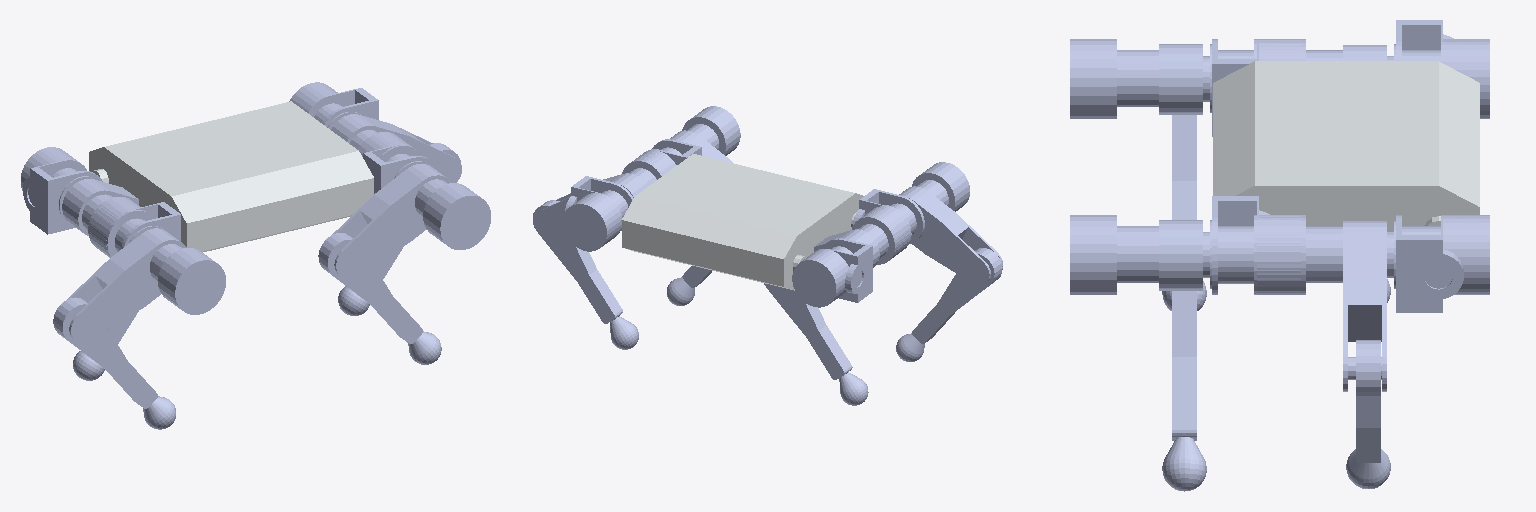
The robot description file, URDF, robot "simplified_model.SLDASM":
<?xml version="1.0" encoding="utf-8"?>
<!-- This URDF was automatically created by SolidWorks to URDF Exporter! Originally created by Stephen Brawner (brawner@gmail.com) 
     Commit Version: 1.6.0-4-g7f85cfe  Build Version: 1.6.7995.38578
     For more information, please see http://wiki.ros.org/sw_urdf_exporter -->
<robot
  name="simplified_model.SLDASM">
  <link
    name="base_link">
    <inertial>
      <origin
        xyz="5.47434840386694E-18 2.55179282232552E-16 3.93671223977149E-18"
        rpy="0 0 0" />
      <mass
        value="12.3505861948935" />
      <inertia
        ixx="0.0552925091791178"
        ixy="3.99354699393272E-17"
        ixz="1.46933120049119E-18"
        iyy="0.0745145490897858"
        iyz="-1.5469933898811E-16"
        izz="0.116976664044279" />
    </inertial>
    <visual>
      <origin
        xyz="0 0 0"
        rpy="0 0 0" />
      <geometry>
        <mesh
          filename="package://simplified_model.SLDASM/meshes/base_link.STL" />
      </geometry>
      <material
        name="">
        <color
          rgba="0.898039215686275 0.917647058823529 0.929411764705882 1" />
      </material>
    </visual>
    <collision>
      <origin
        xyz="0 0 0"
        rpy="0 0 0" />
      <geometry>
        <mesh
          filename="package://simplified_model.SLDASM/meshes/base_link.STL" />
      </geometry>
    </collision>
  </link>
  <link
    name="leg11">
    <inertial>
      <origin
        xyz="2.95448046390318E-16 -0.00470579917560623 -0.00370298925443703"
        rpy="0 0 0" />
      <mass
        value="0.301356841667992" />
      <inertia
        ixx="0.00031237713005535"
        ixy="-1.77171841844848E-21"
        ixz="4.36892705019405E-21"
        iyy="0.000278224679930442"
        iyz="2.3669794651681E-05"
        izz="0.00020168338836961" />
    </inertial>
    <visual>
      <origin
        xyz="0 0 0"
        rpy="0 0 0" />
      <geometry>
        <mesh
          filename="package://simplified_model.SLDASM/meshes/leg11.STL" />
      </geometry>
      <material
        name="">
        <color
          rgba="0.792156862745098 0.819607843137255 0.933333333333333 1" />
      </material>
    </visual>
    <collision>
      <origin
        xyz="0 0 0"
        rpy="0 0 0" />
      <geometry>
        <mesh
          filename="package://simplified_model.SLDASM/meshes/leg11.STL" />
      </geometry>
    </collision>
  </link>
  <joint
    name="joint11"
    type="revolute">
    <origin
      xyz="0.181 0.08 0"
      rpy="1.5707963267949 -1.5707963267949 0" />
    <parent
      link="base_link" />
    <child
      link="leg11" />
    <axis
      xyz="0 -1 0" />
    <limit
      lower="0"
      upper="0"
      effort="0"
      velocity="0" />
  </joint>
  <link
    name="leg12">
    <inertial>
      <origin
        xyz="0.0198293844099956 -3.88578058618805E-16 0.0951546393000447"
        rpy="0 0 0" />
      <mass
        value="0.474545008687657" />
      <inertia
        ixx="0.000744145654837156"
        ixy="-2.60208521396521E-18"
        ixz="0.00029316314313376"
        iyy="0.00125402292613774"
        iyz="3.76800735105758E-18"
        izz="0.000758753104643996" />
    </inertial>
    <visual>
      <origin
        xyz="0 0 0"
        rpy="0 0 0" />
      <geometry>
        <mesh
          filename="package://simplified_model.SLDASM/meshes/leg12.STL" />
      </geometry>
      <material
        name="">
        <color
          rgba="0.792156862745098 0.819607843137255 0.933333333333333 1" />
      </material>
    </visual>
    <collision>
      <origin
        xyz="0 0 0"
        rpy="0 0 0" />
      <geometry>
        <mesh
          filename="package://simplified_model.SLDASM/meshes/leg12.STL" />
      </geometry>
    </collision>
  </link>
  <joint
    name="joint12"
    type="revolute">
    <origin
      xyz="0 0 0"
      rpy="0 0 -2.03979862619672" />
    <parent
      link="leg11" />
    <child
      link="leg12" />
    <axis
      xyz="0 0 1" />
    <limit
      lower="0"
      upper="0"
      effort="0"
      velocity="0" />
  </joint>
  <link
    name="leg13">
    <inertial>
      <origin
        xyz="0.0855858745347819 -3.47361722718986E-12 0.00239181473428293"
        rpy="0 0 0" />
      <mass
        value="0.159809533603717" />
      <inertia
        ixx="2.46241000038277E-05"
        ixy="2.07300751339638E-14"
        ixz="2.33176643663368E-15"
        iyy="0.000776569136241325"
        iyz="-1.97402718491934E-15"
        izz="0.000786083790666802" />
    </inertial>
    <visual>
      <origin
        xyz="0 0 0"
        rpy="0 0 0" />
      <geometry>
        <mesh
          filename="package://simplified_model.SLDASM/meshes/leg13.STL" />
      </geometry>
      <material
        name="">
        <color
          rgba="0.792156862745098 0.819607843137255 0.933333333333333 1" />
      </material>
    </visual>
    <collision>
      <origin
        xyz="0 0 0"
        rpy="0 0 0" />
      <geometry>
        <mesh
          filename="package://simplified_model.SLDASM/meshes/leg13.STL" />
      </geometry>
    </collision>
  </link>
  <joint
    name="joint13"
    type="revolute">
    <origin
      xyz="0.126 0 0.0586081852654754"
      rpy="0 0 -1.76132598286924" />
    <parent
      link="leg12" />
    <child
      link="leg13" />
    <axis
      xyz="0 0 1" />
    <limit
      lower="0"
      upper="0"
      effort="0"
      velocity="0" />
  </joint>
  <link
    name="leg21">
    <inertial>
      <origin
        xyz="-2.8862325545824E-16 0.00470579917560623 -0.00370298925443702"
        rpy="0 0 0" />
      <mass
        value="0.301356841667992" />
      <inertia
        ixx="0.00031237713005535"
        ixy="3.67477668401388E-21"
        ixz="4.30189265200411E-22"
        iyy="0.000278224679930441"
        iyz="-2.3669794651681E-05"
        izz="0.00020168338836961" />
    </inertial>
    <visual>
      <origin
        xyz="0 0 0"
        rpy="0 0 0" />
      <geometry>
        <mesh
          filename="package://simplified_model.SLDASM/meshes/leg21.STL" />
      </geometry>
      <material
        name="">
        <color
          rgba="0.792156862745098 0.819607843137255 0.933333333333333 1" />
      </material>
    </visual>
    <collision>
      <origin
        xyz="0 0 0"
        rpy="0 0 0" />
      <geometry>
        <mesh
          filename="package://simplified_model.SLDASM/meshes/leg21.STL" />
      </geometry>
    </collision>
  </link>
  <joint
    name="joint21"
    type="revolute">
    <origin
      xyz="0.181 -0.08 0"
      rpy="1.5707963267949 -1.5707963267949 0" />
    <parent
      link="base_link" />
    <child
      link="leg21" />
    <axis
      xyz="0 -1 0" />
    <limit
      lower="0"
      upper="0"
      effort="0"
      velocity="0" />
  </joint>
  <link
    name="leg22">
    <inertial>
      <origin
        xyz="0.0198293844099959 -4.02455846426619E-16 0.0951546393000447"
        rpy="0 0 0" />
      <mass
        value="0.474545008687657" />
      <inertia
        ixx="0.000744145654837156"
        ixy="-2.65629532258949E-18"
        ixz="0.00029316314313376"
        iyy="0.00125402292613774"
        iyz="3.75445482390152E-18"
        izz="0.000758753104643997" />
    </inertial>
    <visual>
      <origin
        xyz="0 0 0"
        rpy="0 0 0" />
      <geometry>
        <mesh
          filename="package://simplified_model.SLDASM/meshes/leg22.STL" />
      </geometry>
      <material
        name="">
        <color
          rgba="0.792156862745098 0.819607843137255 0.933333333333333 1" />
      </material>
    </visual>
    <collision>
      <origin
        xyz="0 0 0"
        rpy="0 0 0" />
      <geometry>
        <mesh
          filename="package://simplified_model.SLDASM/meshes/leg22.STL" />
      </geometry>
    </collision>
  </link>
  <joint
    name="joint22"
    type="revolute">
    <origin
      xyz="0 0 0"
      rpy="0 0 2.03979862619672" />
    <parent
      link="leg21" />
    <child
      link="leg22" />
    <axis
      xyz="0 0 1" />
    <limit
      lower="0"
      upper="0"
      effort="0"
      velocity="0" />
  </joint>
  <link
    name="leg23">
    <inertial>
      <origin
        xyz="0.0855858745347818 3.47364498276548E-12 -0.00239154065477623"
        rpy="0 0 0" />
      <mass
        value="0.159809533603717" />
      <inertia
        ixx="2.46241000038276E-05"
        ixy="-2.07298049304536E-14"
        ixz="-2.33192604336374E-15"
        iyy="0.000776569136241325"
        iyz="-1.97403006343245E-15"
        izz="0.000786083790666803" />
    </inertial>
    <visual>
      <origin
        xyz="0 0 0"
        rpy="0 0 0" />
      <geometry>
        <mesh
          filename="package://simplified_model.SLDASM/meshes/leg23.STL" />
      </geometry>
      <material
        name="">
        <color
          rgba="0.792156862745098 0.819607843137255 0.933333333333333 1" />
      </material>
    </visual>
    <collision>
      <origin
        xyz="0 0 0"
        rpy="0 0 0" />
      <geometry>
        <mesh
          filename="package://simplified_model.SLDASM/meshes/leg23.STL" />
      </geometry>
    </collision>
  </link>
  <joint
    name="joint23"
    type="revolute">
    <origin
      xyz="0.126 0 0.0633915406550179"
      rpy="0 0 1.76132598286924" />
    <parent
      link="leg22" />
    <child
      link="leg23" />
    <axis
      xyz="0 0 1" />
    <limit
      lower="0"
      upper="0"
      effort="0"
      velocity="0" />
  </joint>
  <link
    name="leg31">
    <inertial>
      <origin
        xyz="2.73636611246907E-16 0.00470579917560623 -0.00370298925443699"
        rpy="0 0 0" />
      <mass
        value="0.301356841667992" />
      <inertia
        ixx="0.000312377130055351"
        ixy="-5.50892832644609E-21"
        ixz="2.67247408541473E-21"
        iyy="0.000278224679930442"
        iyz="-2.3669794651681E-05"
        izz="0.00020168338836961" />
    </inertial>
    <visual>
      <origin
        xyz="0 0 0"
        rpy="0 0 0" />
      <geometry>
        <mesh
          filename="package://simplified_model.SLDASM/meshes/leg31.STL" />
      </geometry>
      <material
        name="">
        <color
          rgba="0.792156862745098 0.819607843137255 0.933333333333333 1" />
      </material>
    </visual>
    <collision>
      <origin
        xyz="0 0 0"
        rpy="0 0 0" />
      <geometry>
        <mesh
          filename="package://simplified_model.SLDASM/meshes/leg31.STL" />
      </geometry>
    </collision>
  </link>
  <joint
    name="joint31"
    type="revolute">
    <origin
      xyz="-0.181 0.0799999999999998 0"
      rpy="1.5707963267949 -1.5707963267949 0" />
    <parent
      link="base_link" />
    <child
      link="leg31" />
    <axis
      xyz="0 1 0" />
    <limit
      lower="0"
      upper="0"
      effort="0"
      velocity="0" />
  </joint>
  <link
    name="leg32">
    <inertial>
      <origin
        xyz="0.019829384409996 -2.22044604925031E-16 0.0951546393000443"
        rpy="0 0 0" />
      <mass
        value="0.474545008687657" />
      <inertia
        ixx="0.000744145654837155"
        ixy="-1.84314369322536E-18"
        ixz="0.000293163143133759"
        iyy="0.00125402292613774"
        iyz="3.01185729608304E-18"
        izz="0.000758753104643996" />
    </inertial>
    <visual>
      <origin
        xyz="0 0 0"
        rpy="0 0 0" />
      <geometry>
        <mesh
          filename="package://simplified_model.SLDASM/meshes/leg32.STL" />
      </geometry>
      <material
        name="">
        <color
          rgba="0.792156862745098 0.819607843137255 0.933333333333333 1" />
      </material>
    </visual>
    <collision>
      <origin
        xyz="0 0 0"
        rpy="0 0 0" />
      <geometry>
        <mesh
          filename="package://simplified_model.SLDASM/meshes/leg32.STL" />
      </geometry>
    </collision>
  </link>
  <joint
    name="joint32"
    type="revolute">
    <origin
      xyz="0 0 0"
      rpy="0 0 -2.03979862619672" />
    <parent
      link="leg31" />
    <child
      link="leg32" />
    <axis
      xyz="0 0 1" />
    <limit
      lower="0"
      upper="0"
      effort="0"
      velocity="0" />
  </joint>
  <link
    name="leg33">
    <inertial>
      <origin
        xyz="0.0855858745347819 -3.47366579944719E-12 -2.41501263431587E-13"
        rpy="0 0 0" />
      <mass
        value="0.159809533603718" />
      <inertia
        ixx="2.46241000038278E-05"
        ixy="2.07305943651604E-14"
        ixz="2.33025330632682E-15"
        iyy="0.000776569136241325"
        iyz="-1.97400249884394E-15"
        izz="0.000786083790666803" />
    </inertial>
    <visual>
      <origin
        xyz="0 0 0"
        rpy="0 0 0" />
      <geometry>
        <mesh
          filename="package://simplified_model.SLDASM/meshes/leg33.STL" />
      </geometry>
      <material
        name="">
        <color
          rgba="0.792156862745098 0.819607843137255 0.933333333333333 1" />
      </material>
    </visual>
    <collision>
      <origin
        xyz="0 0 0"
        rpy="0 0 0" />
      <geometry>
        <mesh
          filename="package://simplified_model.SLDASM/meshes/leg33.STL" />
      </geometry>
    </collision>
  </link>
  <joint
    name="joint33"
    type="revolute">
    <origin
      xyz="0.126 0 0.0609999999999996"
      rpy="0 0 -1.76132598286924" />
    <parent
      link="leg32" />
    <child
      link="leg33" />
    <axis
      xyz="0 0 1" />
    <limit
      lower="0"
      upper="0"
      effort="0"
      velocity="0" />
  </joint>
  <link
    name="leg41">
    <inertial>
      <origin
        xyz="-2.83397247261829E-16 -0.00470579917560626 -0.00370298925443702"
        rpy="0 0 0" />
      <mass
        value="0.301356841667992" />
      <inertia
        ixx="0.00031237713005535"
        ixy="2.7515066542024E-21"
        ixz="-3.487000000544E-21"
        iyy="0.000278224679930441"
        iyz="2.3669794651681E-05"
        izz="0.00020168338836961" />
    </inertial>
    <visual>
      <origin
        xyz="0 0 0"
        rpy="0 0 0" />
      <geometry>
        <mesh
          filename="package://simplified_model.SLDASM/meshes/leg41.STL" />
      </geometry>
      <material
        name="">
        <color
          rgba="0.792156862745098 0.819607843137255 0.933333333333333 1" />
      </material>
    </visual>
    <collision>
      <origin
        xyz="0 0 0"
        rpy="0 0 0" />
      <geometry>
        <mesh
          filename="package://simplified_model.SLDASM/meshes/leg41.STL" />
      </geometry>
    </collision>
  </link>
  <joint
    name="joint41"
    type="revolute">
    <origin
      xyz="-0.181 -0.0800000000000002 0"
      rpy="1.57079632679489 -1.5707963267949 0" />
    <parent
      link="base_link" />
    <child
      link="leg41" />
    <axis
      xyz="0 1 0" />
    <limit
      lower="0"
      upper="0"
      effort="0"
      velocity="0" />
  </joint>
  <link
    name="leg42">
    <inertial>
      <origin
        xyz="0.0198293844099955 -1.94289029309402E-16 0.0951546393000452"
        rpy="0 0 0" />
      <mass
        value="0.474545008687657" />
      <inertia
        ixx="0.000744145654837156"
        ixy="-1.76182853028894E-18"
        ixz="0.00029316314313376"
        iyy="0.00125402292613774"
        iyz="3.03218608681715E-18"
        izz="0.000758753104643997" />
    </inertial>
    <visual>
      <origin
        xyz="0 0 0"
        rpy="0 0 0" />
      <geometry>
        <mesh
          filename="package://simplified_model.SLDASM/meshes/leg42.STL" />
      </geometry>
      <material
        name="">
        <color
          rgba="0.792156862745098 0.819607843137255 0.933333333333333 1" />
      </material>
    </visual>
    <collision>
      <origin
        xyz="0 0 0"
        rpy="0 0 0" />
      <geometry>
        <mesh
          filename="package://simplified_model.SLDASM/meshes/leg42.STL" />
      </geometry>
    </collision>
  </link>
  <joint
    name="joint42"
    type="revolute">
    <origin
      xyz="0 0 0"
      rpy="0 0 2.03979862619672" />
    <parent
      link="leg41" />
    <child
      link="leg42" />
    <axis
      xyz="0 0 1" />
    <limit
      lower="0"
      upper="0"
      effort="0"
      velocity="0" />
  </joint>
  <link
    name="leg43">
    <inertial>
      <origin
        xyz="0.0855858745347815 3.47327722138857E-12 2.41445752280356E-13"
        rpy="0 0 0" />
      <mass
        value="0.159809533603717" />
      <inertia
        ixx="2.46241000038277E-05"
        ixy="-2.07303385612104E-14"
        ixz="-2.33018754920233E-15"
        iyy="0.000776569136241324"
        iyz="-1.97400131551903E-15"
        izz="0.000786083790666802" />
    </inertial>
    <visual>
      <origin
        xyz="0 0 0"
        rpy="0 0 0" />
      <geometry>
        <mesh
          filename="package://simplified_model.SLDASM/meshes/leg43.STL" />
      </geometry>
      <material
        name="">
        <color
          rgba="0.792156862745098 0.819607843137255 0.933333333333333 1" />
      </material>
    </visual>
    <collision>
      <origin
        xyz="0 0 0"
        rpy="0 0 0" />
      <geometry>
        <mesh
          filename="package://simplified_model.SLDASM/meshes/leg43.STL" />
      </geometry>
    </collision>
  </link>
  <joint
    name="joint43"
    type="revolute">
    <origin
      xyz="0.126 0 0.0610000000000005"
      rpy="0 0 1.76132598286924" />
    <parent
      link="leg42" />
    <child
      link="leg43" />
    <axis
      xyz="0 0 1" />
    <limit
      lower="0"
      upper="0"
      effort="0"
      velocity="0" />
  </joint>
</robot>

--- Render facts (derived) ---
Views: 3 orthographic renders of the robot side by side, from view 1: azimuth 30°, elevation 25°; view 2: azimuth 150°, elevation 25°; view 3: azimuth 270°, elevation 25°.
Model simplified_model.SLDASM with 13 links and 12 joints (12 revolute), rooted at base_link, posed every joint at zero.
Visible links, largest first — view 1: base_link, leg42, leg22, leg31, leg23, leg43, leg12, leg32, leg41, leg11, leg21, leg13 (+1 smaller); view 2: base_link, leg42, leg31, leg11, leg13, leg33, leg43, leg41, leg22, leg12, leg32, leg21 (+1 smaller); view 3: base_link, leg22, leg42, leg12, leg11, leg21, leg23, leg13, leg31, leg43, leg41, leg32.
Link boxes in pixels (x1,y1,x2,y2): base_link: (89, 101, 373, 251); leg42: (67, 228, 225, 342); leg22: (332, 164, 490, 277); leg31: (21, 147, 102, 234); leg23: (318, 233, 441, 364); leg43: (53, 297, 175, 429); leg12: (331, 114, 461, 182); leg32: (62, 179, 153, 256); leg41: (88, 197, 180, 257); leg11: (289, 82, 378, 129); leg21: (358, 132, 437, 193); leg13: (338, 143, 460, 315); base_link: (622, 154, 863, 290); leg42: (899, 162, 1002, 285); leg31: (792, 238, 872, 307); leg11: (563, 176, 633, 251); leg13: (533, 200, 638, 349); leg33: (764, 283, 868, 405); leg43: (896, 248, 1002, 361); leg41: (852, 189, 924, 264); leg22: (670, 106, 740, 162); leg12: (534, 149, 674, 237); leg32: (765, 205, 911, 293); leg21: (622, 139, 701, 179); base_link: (1213, 61, 1479, 231); leg22: (1070, 215, 1202, 294); leg42: (1070, 39, 1202, 118); leg12: (1254, 215, 1386, 391); leg11: (1387, 215, 1489, 312); leg21: (1203, 196, 1305, 294); leg23: (1162, 291, 1206, 491); leg13: (1346, 340, 1390, 488); leg31: (1387, 20, 1489, 118); leg43: (1162, 115, 1206, 310); leg41: (1203, 39, 1305, 136); leg32: (1254, 39, 1386, 60).
Bounding box of the posed robot: 0.6367 × 0.3655 × 0.2657 m (x, y, z).
Meshes: 13 distinct files referenced, 13 mesh visuals loaded (13 binary STL).
